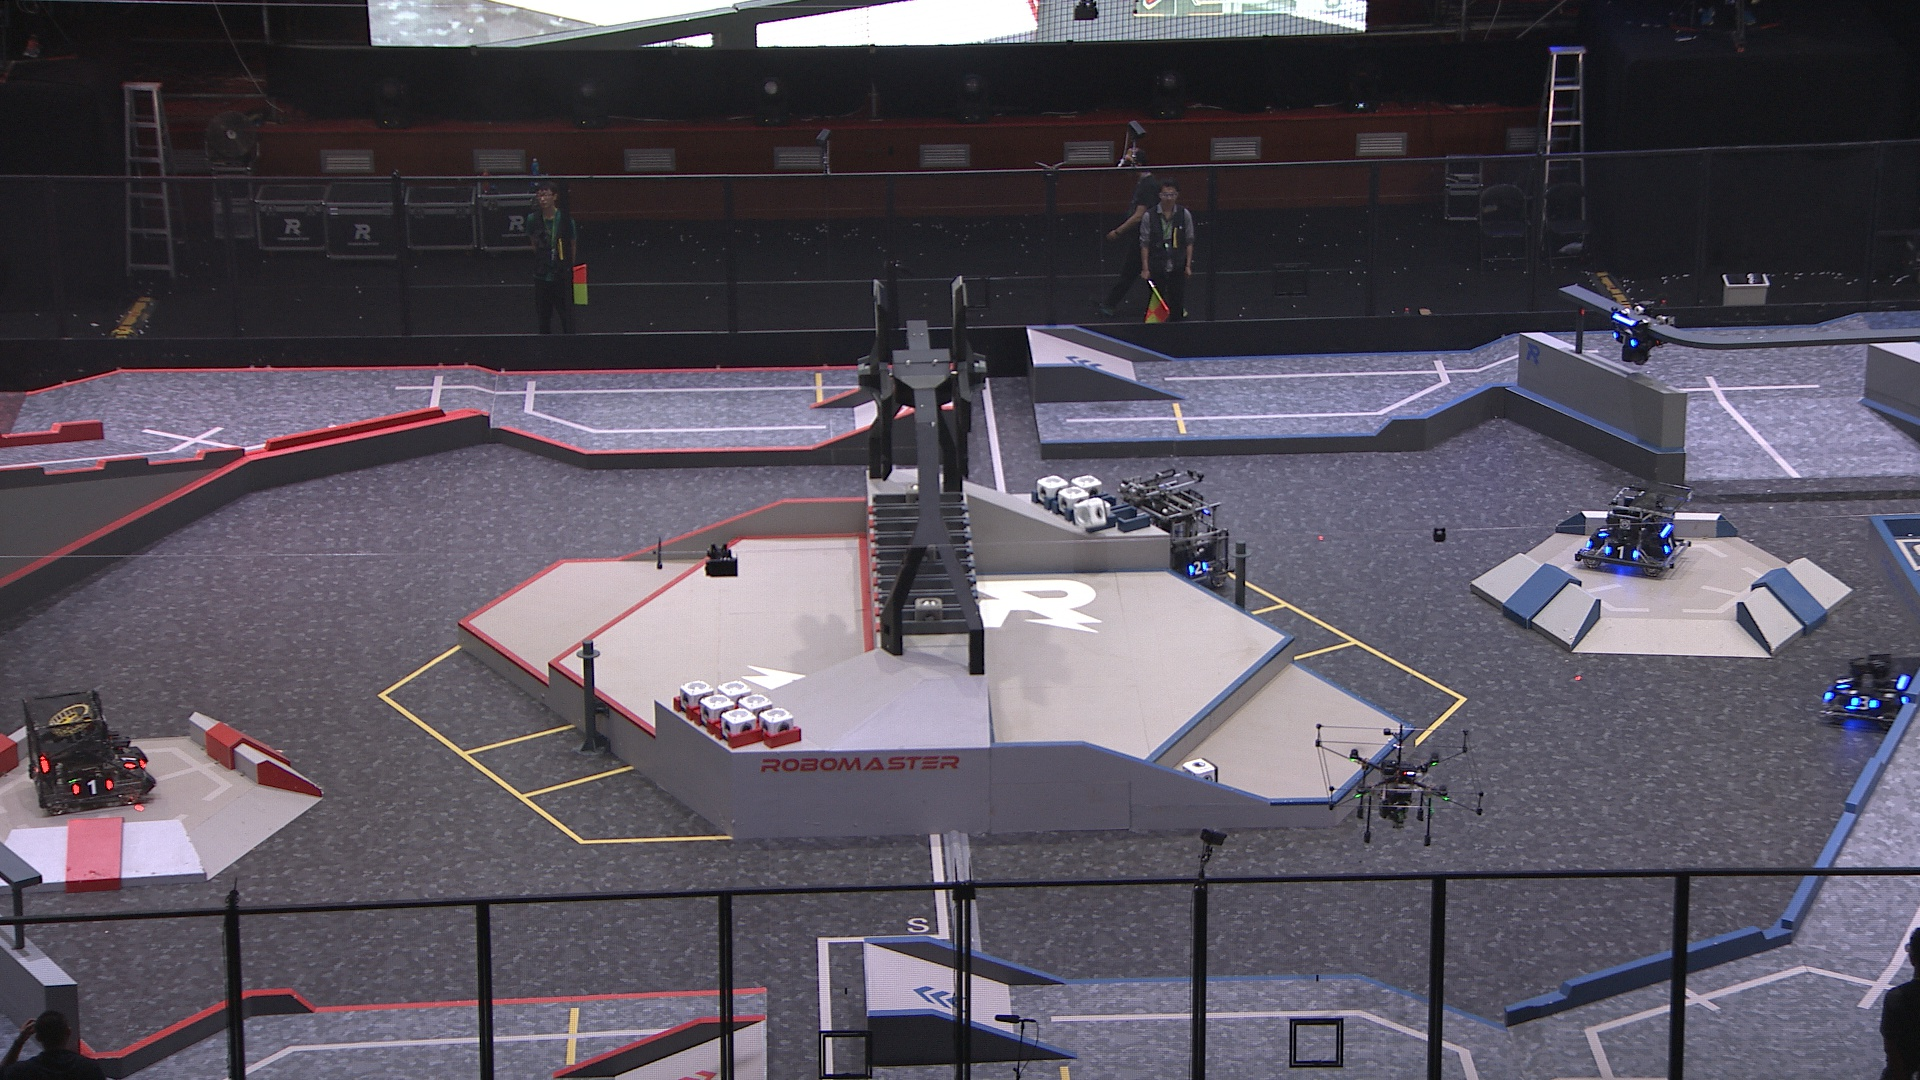armor: (73, 777, 112, 798), (1600, 543, 1636, 560), (1850, 694, 1879, 712), (117, 749, 138, 771), (1611, 332, 1636, 347), (1188, 560, 1211, 576), (1664, 534, 1680, 555), (1836, 673, 1855, 688), (1593, 526, 1611, 542)
car: (18, 688, 161, 818), (1120, 467, 1233, 593), (1575, 480, 1695, 578), (1821, 654, 1920, 728)
watcher: (1607, 305, 1673, 363)
